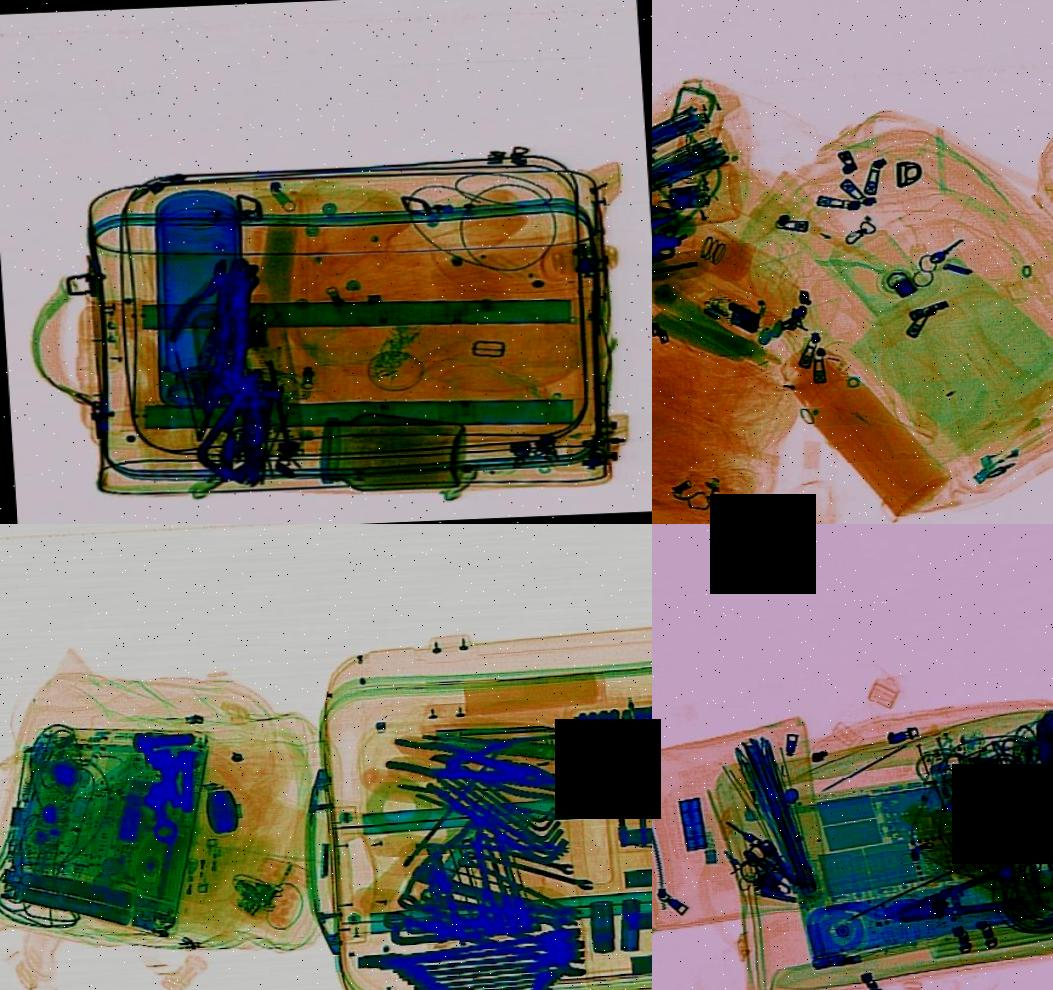Pliers: (376, 724, 578, 807), (417, 718, 573, 806), (155, 249, 264, 356), (888, 862, 1025, 935), (1025, 706, 1053, 867)
Wrench: (378, 898, 596, 987), (414, 878, 582, 941), (457, 840, 597, 898), (464, 830, 577, 879)
